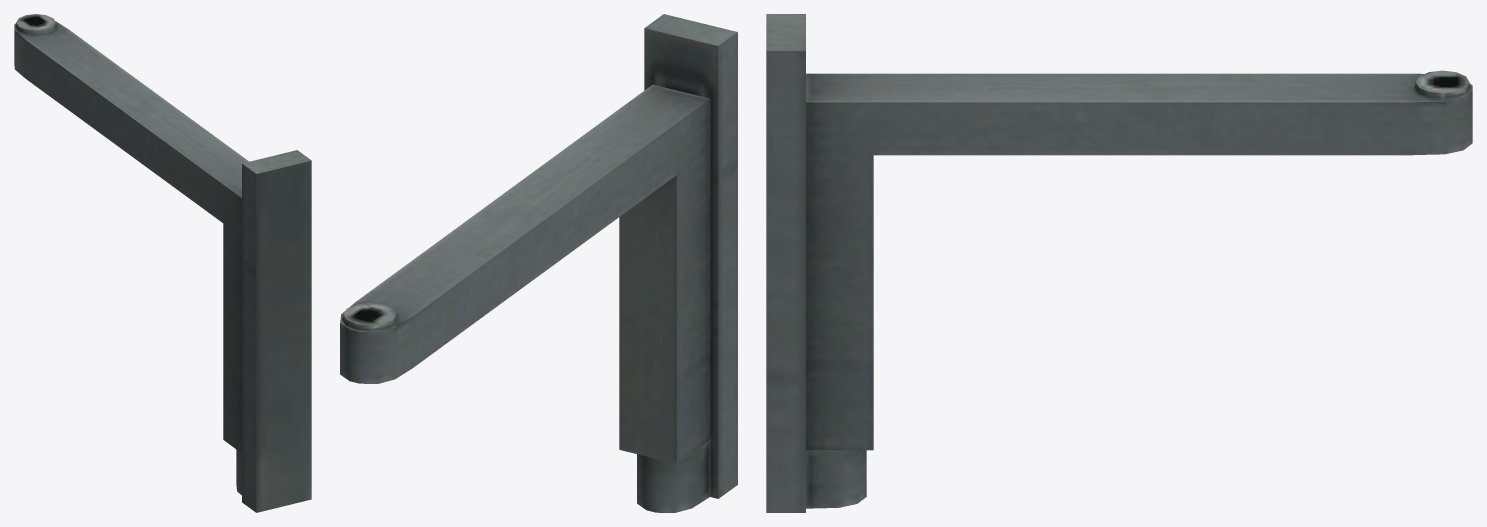
File: paris_bookstore_wall_light_base_lod0.glb
3 views of the same model, side by side, from view 1: azimuth 30°, elevation 25°; view 2: azimuth 150°, elevation 25°; view 3: azimuth 270°, elevation 25° (orthographic). The views are drawn at different scales.
Visible parts, largest first — view 1: surf0; view 2: surf0; view 3: surf0.
Part boxes in pixels (box(x1,y1,x2,y2)): surf0: box(14, 14, 311, 512); surf0: box(340, 14, 737, 512); surf0: box(766, 14, 1472, 512).
Size of the model in its own units: 1.68 by 9.8 by 13.57.
